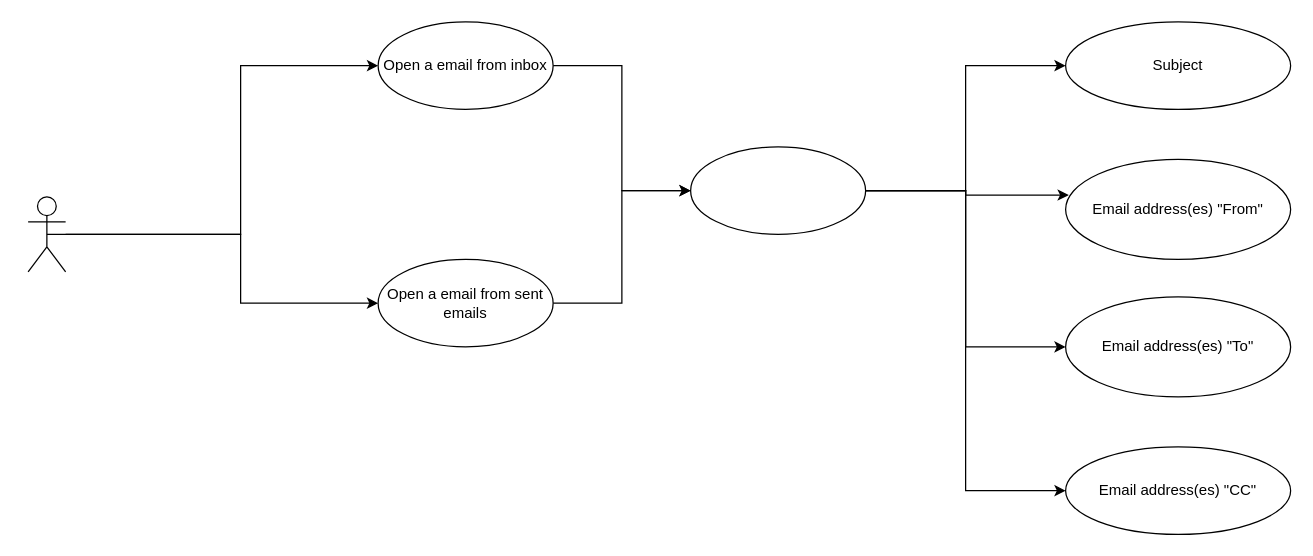
Image size: 1313x556. Some labels were removed from this diagram. The shapes that lost their labels are listed below. From the top down, each one's centre as x and y in pixels, then its label:
At point 777,190: "Long press to copy to clipboard".
At point 46,234: "K9 user".
